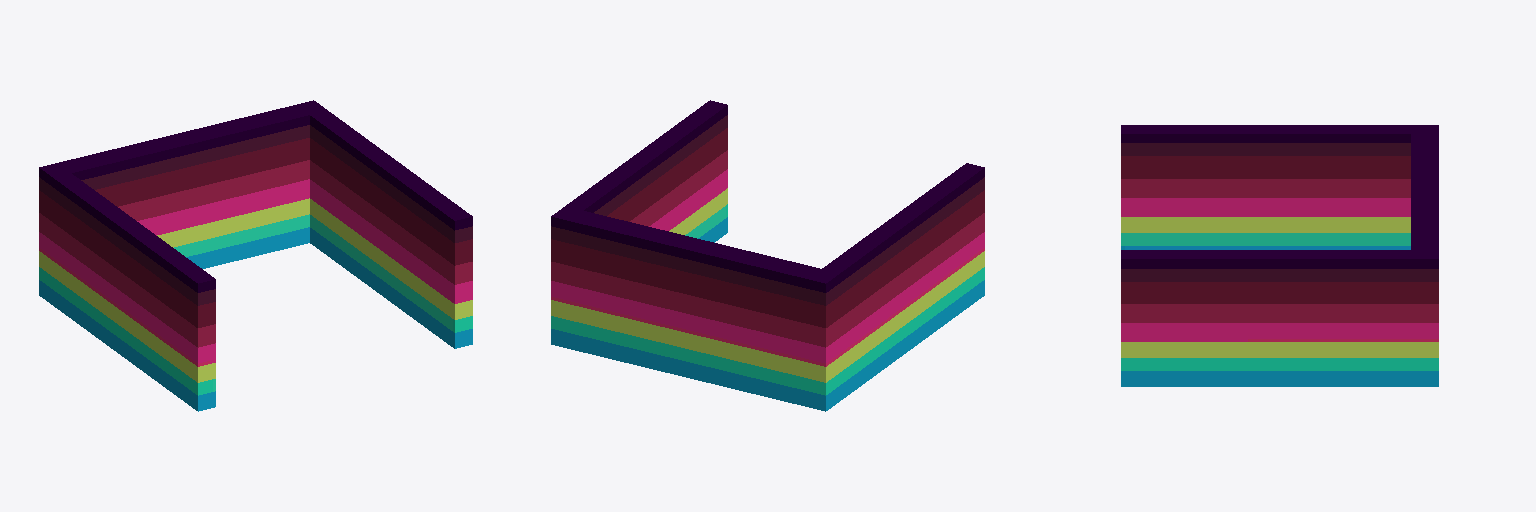
3 views of the same model, side by side, from view 1: azimuth 30°, elevation 25°; view 2: azimuth 150°, elevation 25°; view 3: azimuth 270°, elevation 25° (orthographic).
Visible parts, largest first — view 1: WallRainbow; view 2: WallRainbow; view 3: WallRainbow.
Boxes of the visible parts, <box> form: WallRainbow: <box>39,100,472,411</box>; WallRainbow: <box>551,100,984,411</box>; WallRainbow: <box>1121,125,1438,386</box>.
Bounding box in the file's own units: 90 × 40 × 90.
Materials: 1 (1 with a texture image).